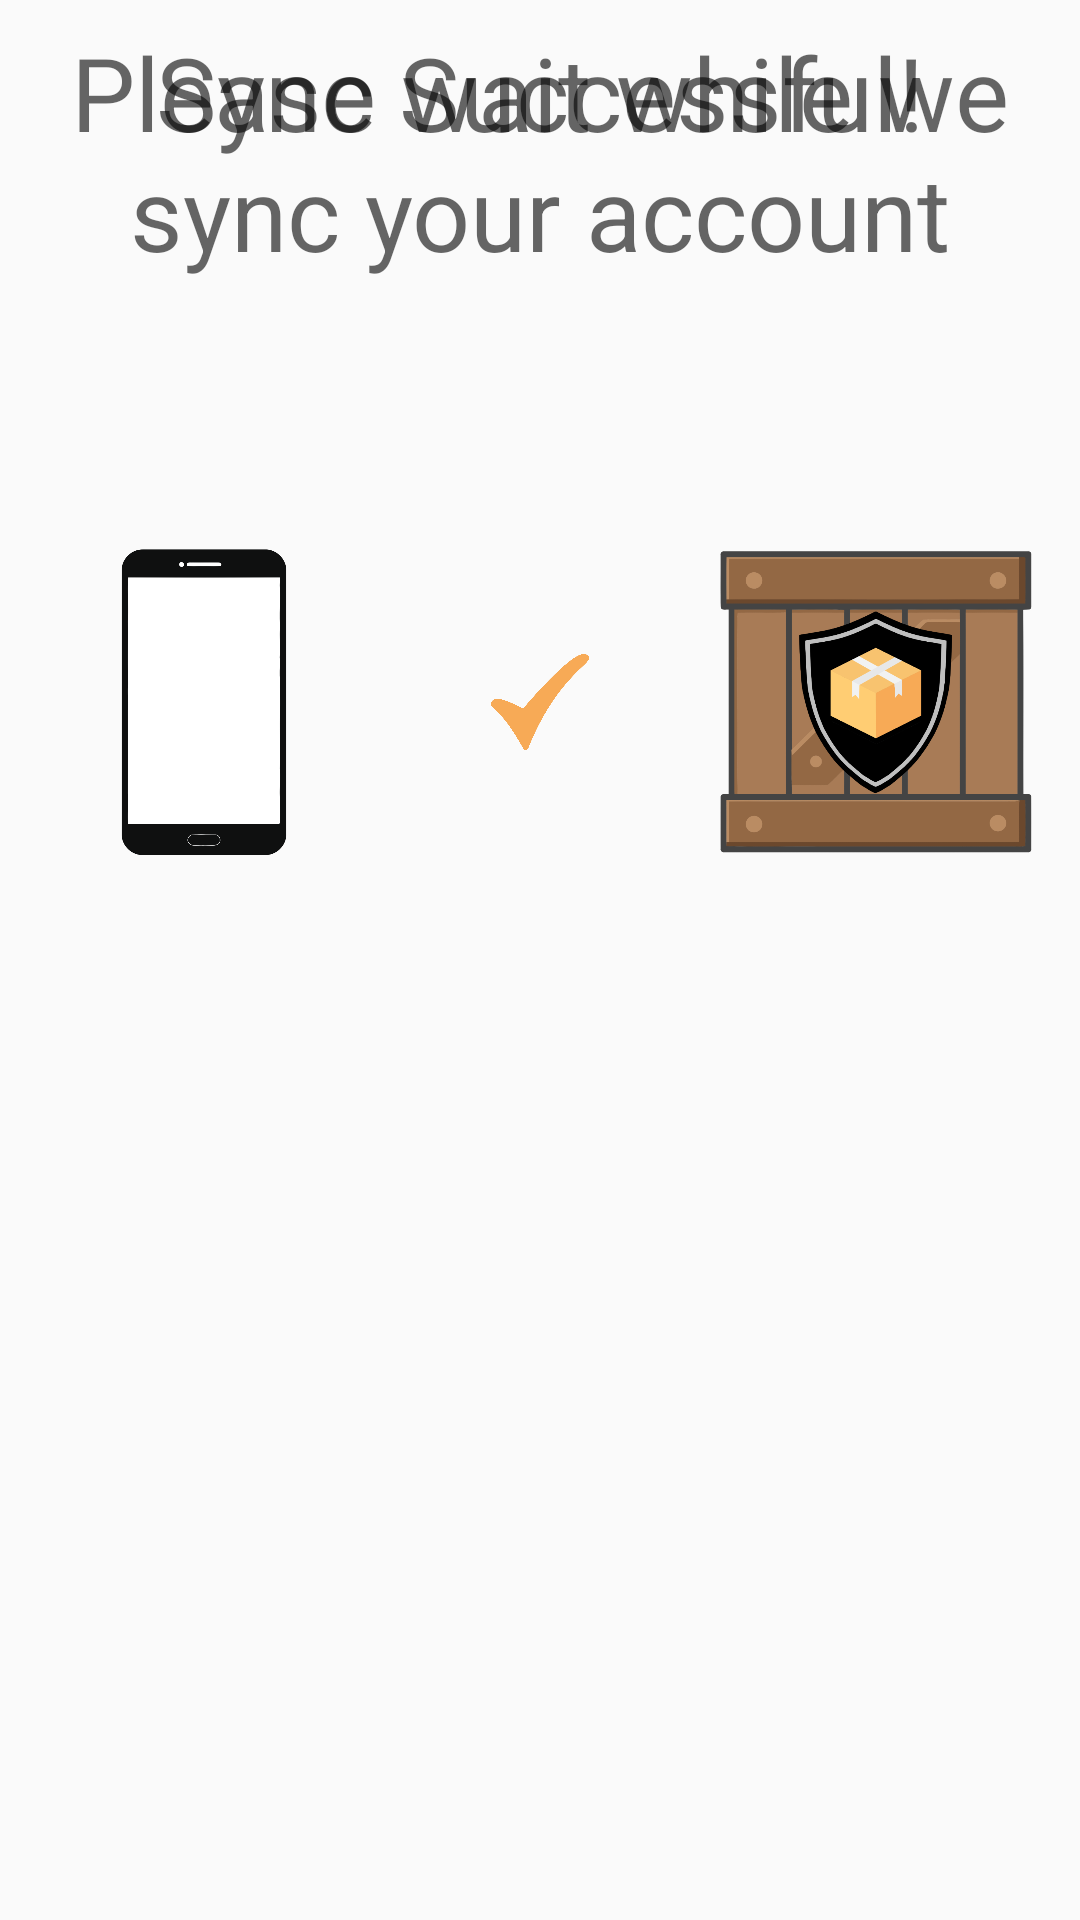

Icon bounding boxes for this 1080×1920 phone screenshot, format (x1=x1, y1=y1, x2=x2, y2=y2):
checkmark: (x1=491, y1=654, x2=589, y2=750)
crate: (x1=720, y1=551, x2=1032, y2=853)
phone: (x1=122, y1=549, x2=286, y2=855)
